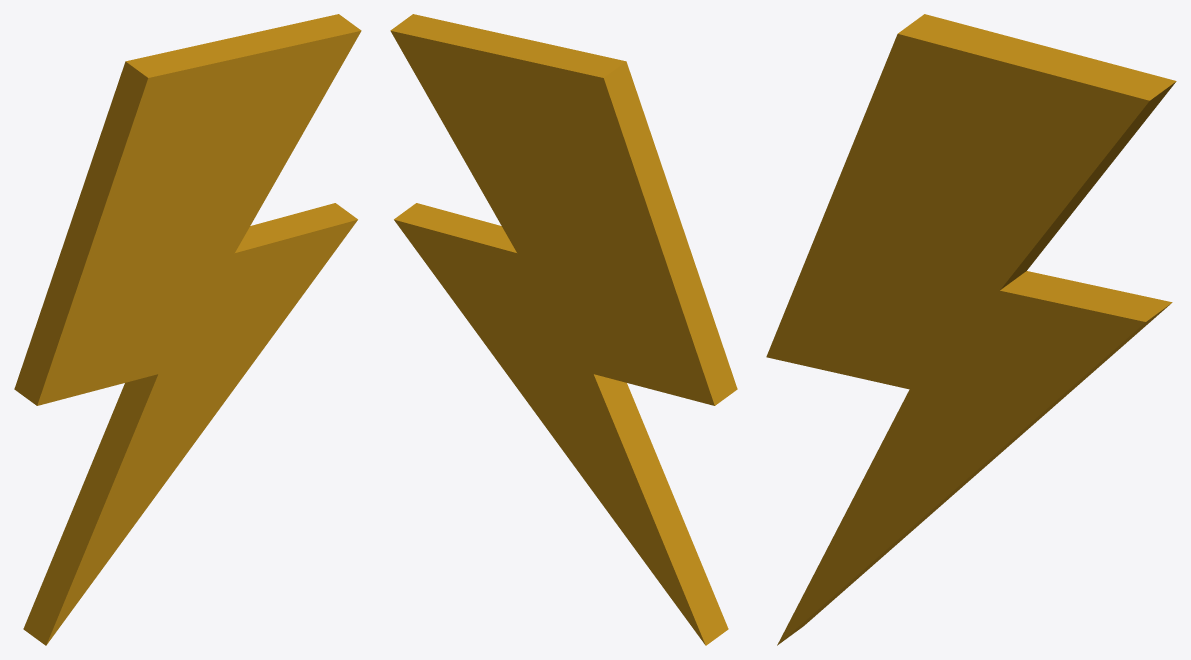
Rendered from ligthing_bolt.fbx.
3 renders of one model, left to right at view 1: azimuth 30°, elevation 25°; view 2: azimuth 150°, elevation 25°; view 3: azimuth 330°, elevation 25°, orthographic. The views are drawn at different scales.
Parts seen in each view (by area): view 1: Line001; view 2: Line001; view 3: Line001.
Boxes of the visible parts, <box> form: Line001: <box>14,14,361,645</box>; Line001: <box>390,14,737,645</box>; Line001: <box>766,14,1176,645</box>.
Size of the model in its own units: 73.91 by 118 by 9.
